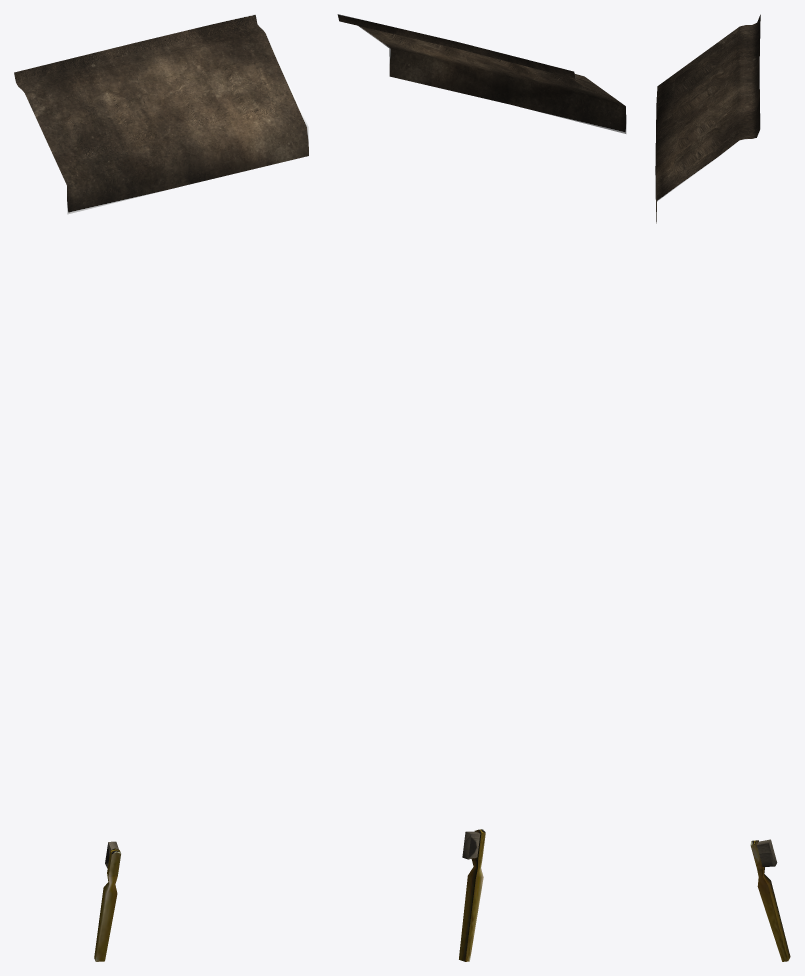
The model's file is crassebox.fbx.
3 renders of one model, left to right at view 1: azimuth 30°, elevation 25°; view 2: azimuth 150°, elevation 25°; view 3: azimuth 270°, elevation 25°, orthographic. The views are drawn at different scales.
Visible parts, largest first — view 1: crasseincrustee, brosseadentcrasse; view 2: crasseincrustee, brosseadentcrasse; view 3: crasseincrustee, brosseadentcrasse.
Part boxes in pixels (x1,y1,x2,y2): crasseincrustee: (14, 14, 308, 214); brosseadentcrasse: (94, 841, 120, 961); crasseincrustee: (337, 14, 626, 133); brosseadentcrasse: (459, 829, 485, 961); crasseincrustee: (655, 14, 760, 223); brosseadentcrasse: (750, 839, 790, 961).
Bounding box in the file's own units: 42.23 × 154 × 20.98.
